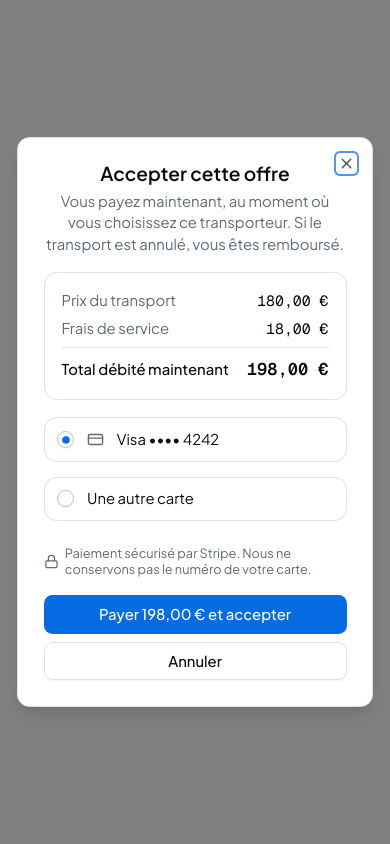
Scenario: AcceptPaymentDialog — a card Stripe refuses › leaves a failure that is not the card's own as Stripe worded it
The width and height of the screenshot is (390, 844).
Click the button "Payer 198,00 € et accepter": (195, 615) [44,596,346,634]
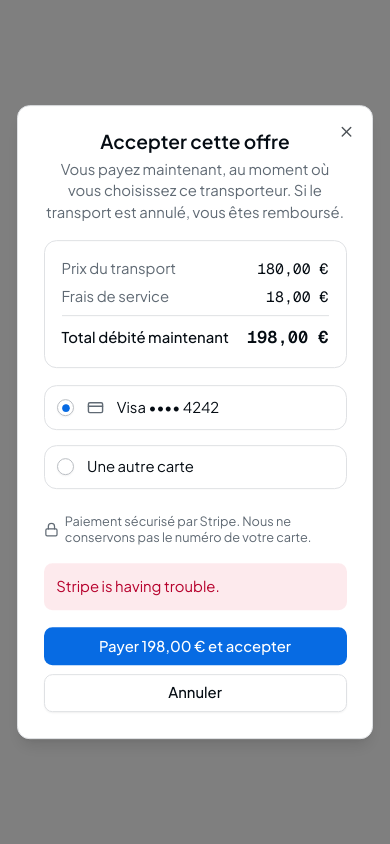
Result: the text "Stripe is having trouble." is shown at [44,564,346,610]
